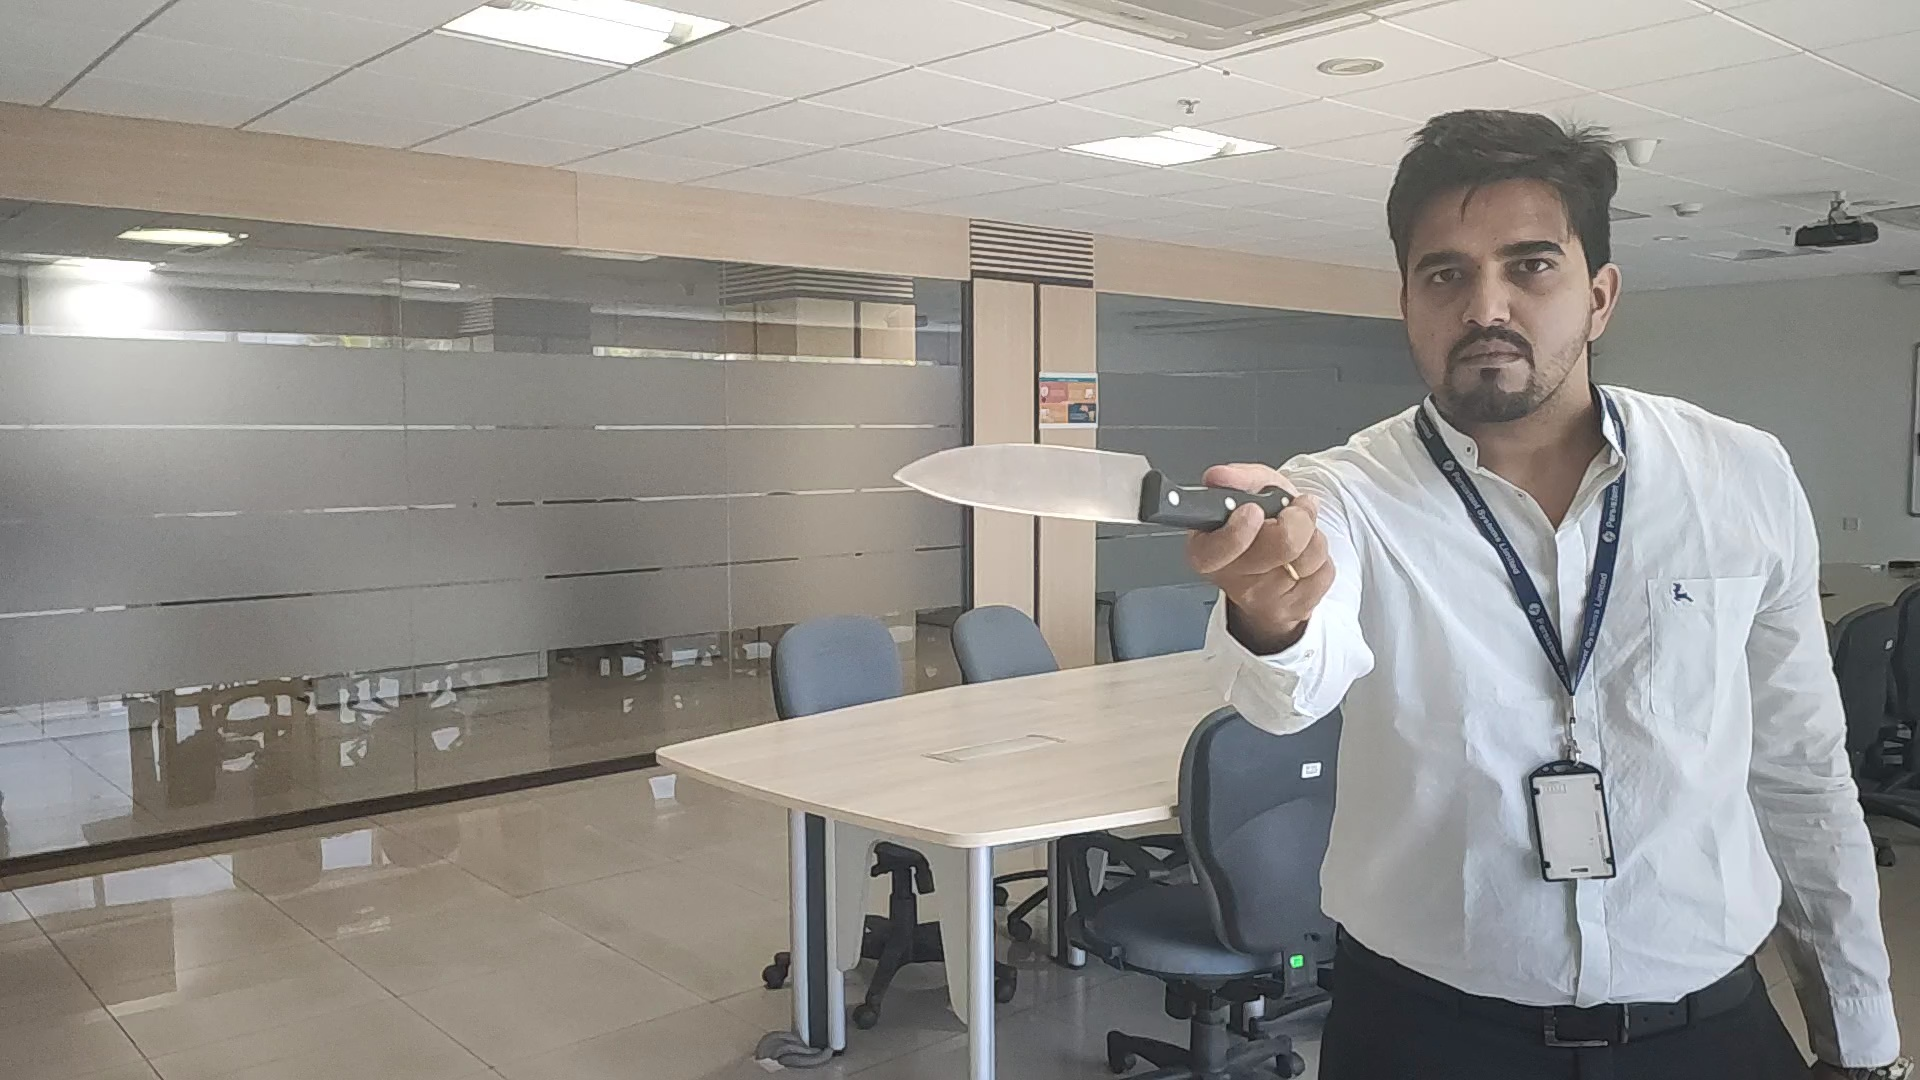knife: (891, 442, 1226, 524)
